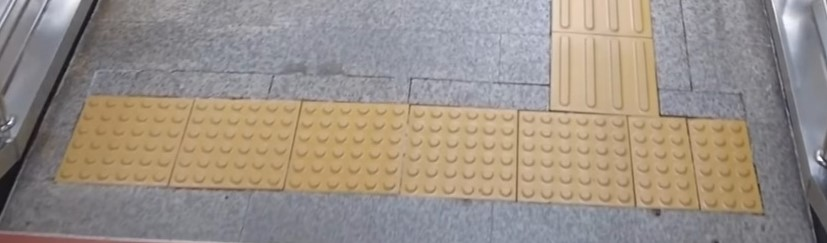guideBlock: (547, 35, 649, 119), (555, 3, 652, 42)
warningBlock: (405, 100, 522, 200), (290, 104, 408, 196), (516, 112, 631, 204), (185, 89, 290, 188), (69, 94, 184, 169), (622, 122, 707, 199), (689, 118, 758, 204)
